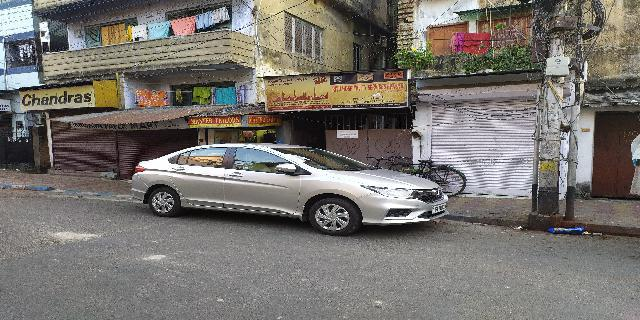Car: (125, 138, 450, 238)
